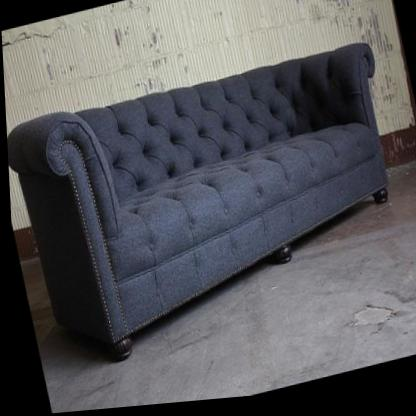Sofa: (3, 35, 416, 380)
